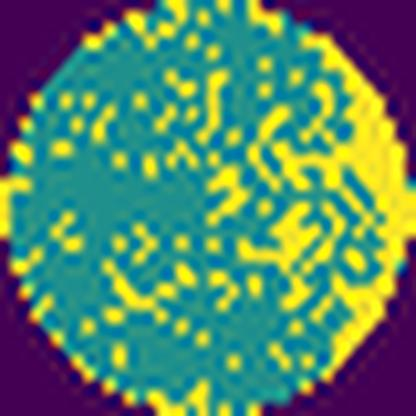Edge-Loc: (330, 34, 416, 381)
